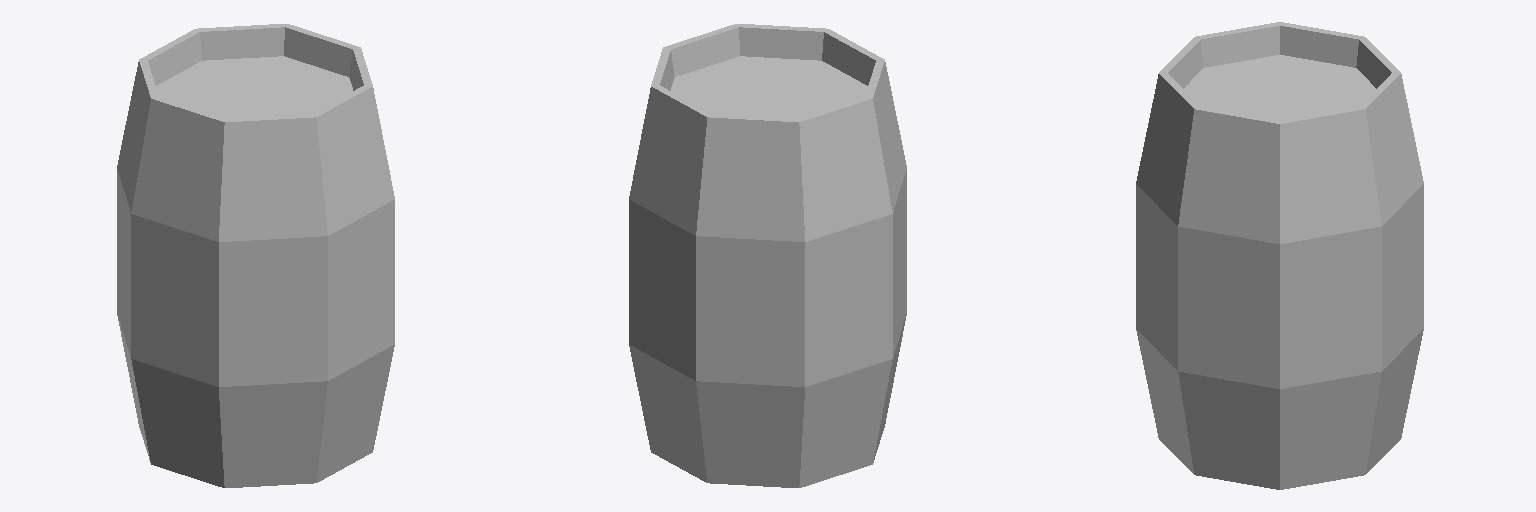
Rendered from large_barrel.obj.
3 views of the same model, side by side, from view 1: azimuth 30°, elevation 25°; view 2: azimuth 150°, elevation 25°; view 3: azimuth 270°, elevation 25° (orthographic).
Parts seen in each view (by area): view 1: Small_Barrell.001; view 2: Small_Barrell.001; view 3: Small_Barrell.001.
Part boxes in pixels (x1,y1,x2,y2): Small_Barrell.001: (117,24,394,487); Small_Barrell.001: (629,24,906,487); Small_Barrell.001: (1136,22,1423,489).
Bounding box in the file's own units: 0.9872 × 1.38 × 0.9872.